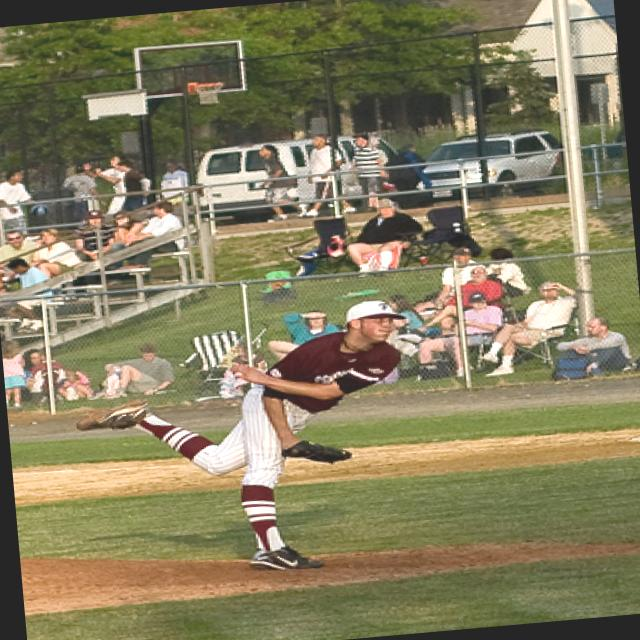Vehicle: (192, 128, 402, 208), (405, 128, 566, 200)
